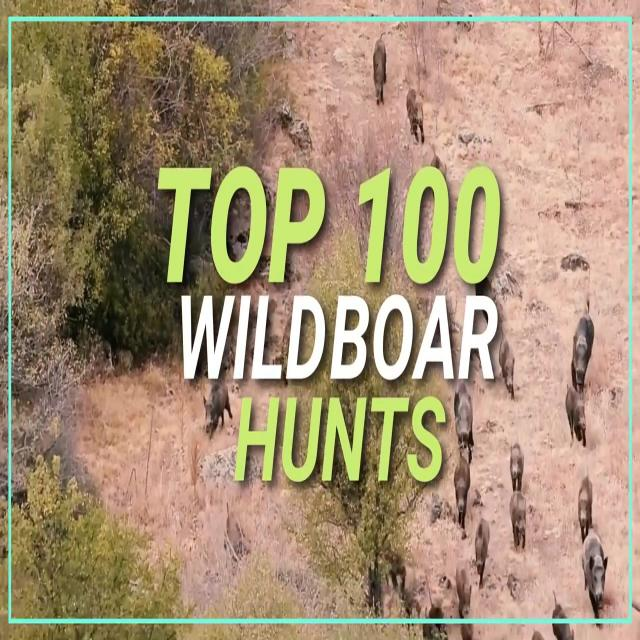pig: (462, 502, 496, 598), (570, 464, 598, 540), (578, 538, 605, 602), (571, 301, 597, 359), (566, 378, 593, 428), (371, 23, 386, 109), (458, 395, 486, 441), (505, 496, 525, 558), (457, 452, 475, 516), (410, 71, 422, 142), (514, 434, 524, 482)
